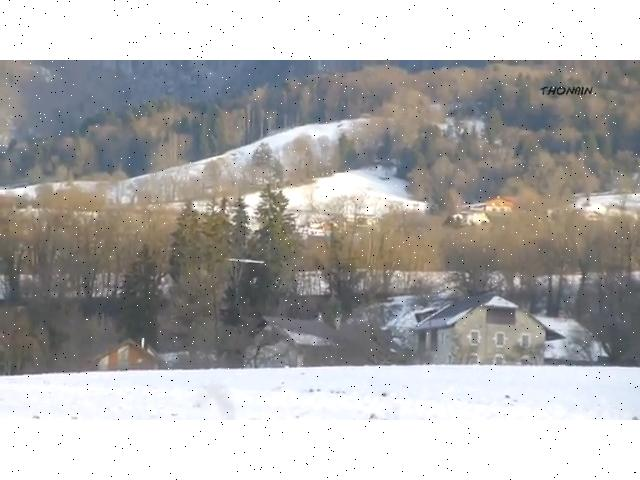Anti-Drone: (228, 259, 264, 263)
